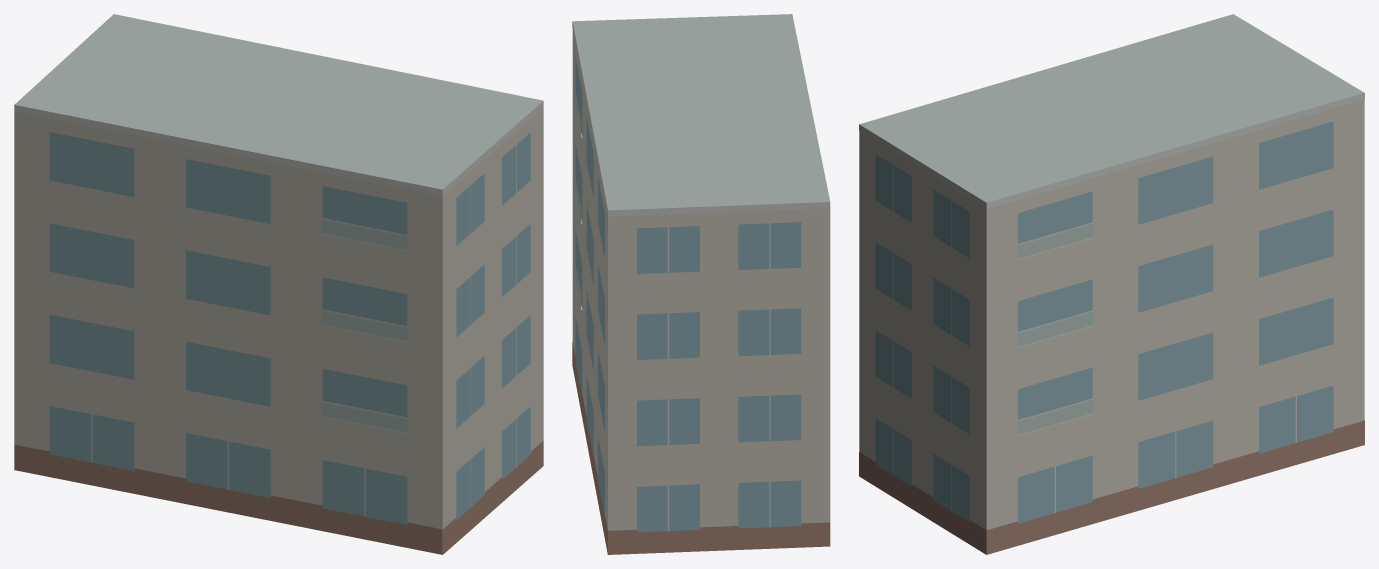
File: survey-upis-32586000.glb
The picture shows the model from 3 angles, left to right: view 1: azimuth 30°, elevation 25°; view 2: azimuth 150°, elevation 25°; view 3: azimuth 270°, elevation 25°; orthographic projection. The views are drawn at different scales.
Parts seen in each view (by area): view 1: survey-upis-32586000.tmp; view 2: survey-upis-32586000.tmp; view 3: survey-upis-32586000.tmp.
Boxes of the visible parts, x1,y1,x2,y2 form: survey-upis-32586000.tmp: [14, 14, 543, 554]; survey-upis-32586000.tmp: [572, 14, 830, 554]; survey-upis-32586000.tmp: [859, 14, 1364, 554].
Bounding box in the file's own units: 15.65 × 13.6 × 17.71.
